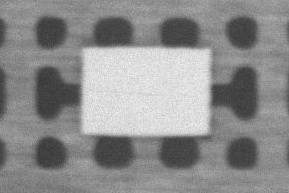DIE_CRACK: (132, 60, 246, 63)
